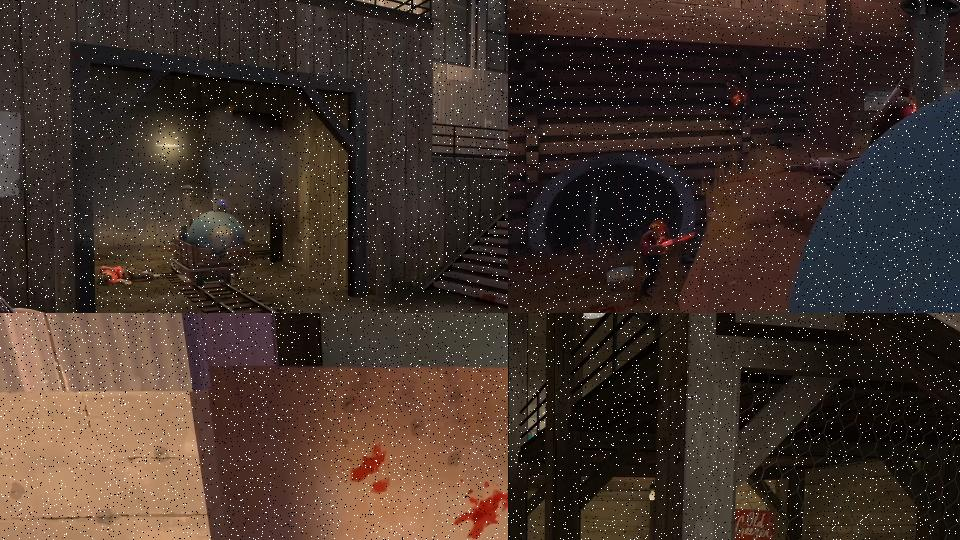Enemy: (640, 219, 696, 298), (866, 78, 916, 149), (783, 151, 861, 173)
